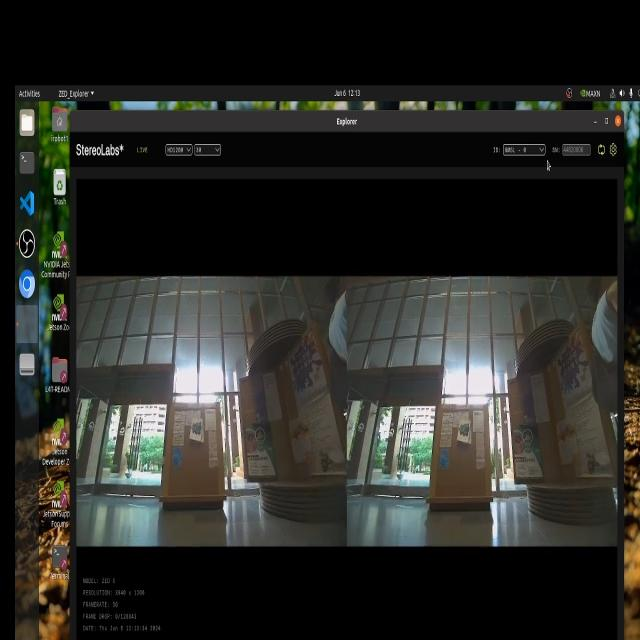green: (190, 414, 204, 449), (456, 419, 470, 443)
